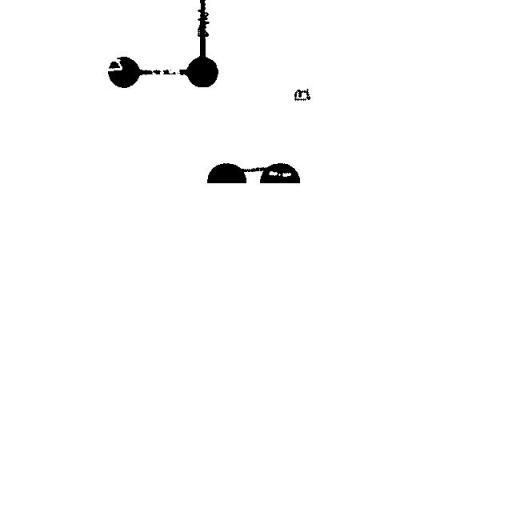copper: (286, 81, 318, 108)
mousebite: (98, 52, 130, 78)
open: (129, 49, 187, 89)
pin-hole: (261, 163, 298, 184)
short: (229, 159, 283, 179)
spur: (190, 2, 216, 44)
